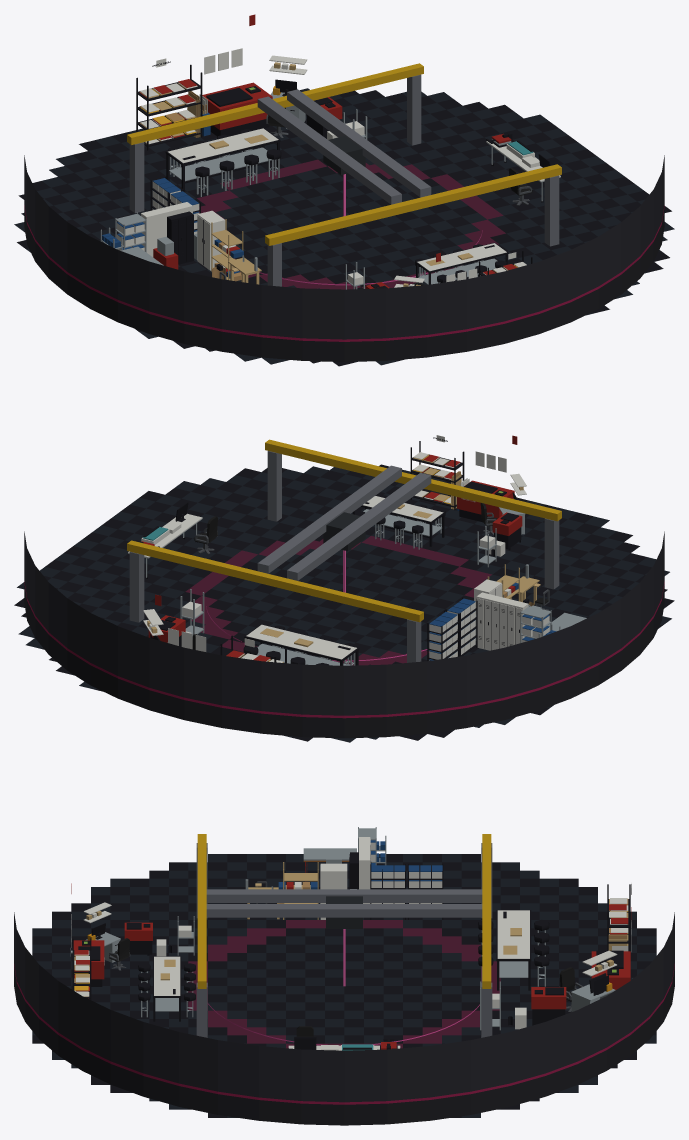
The model's file is arena_laser.glb.
3 renders of one model, top to bottom at view 1: azimuth 30°, elevation 25°; view 2: azimuth 150°, elevation 25°; view 3: azimuth 270°, elevation 25°, orthographic. The views are drawn at different scales.
Visible parts, largest first — view 1: laser_floor, laser_b, laser_a, laser_c; view 2: laser_floor, laser_b, laser_a, laser_c; view 3: laser_floor, laser_b, laser_a, laser_c.
Boxes of the visible parts, x1=… form: laser_floor: x1=14, y1=88, x2=674, y2=366; laser_b: x1=24, y1=136, x2=664, y2=361; laser_a: x1=127, y1=14, x2=561, y2=286; laser_c: x1=100, y1=132, x2=560, y2=284; laser_floor: x1=14, y1=464, x2=674, y2=742; laser_b: x1=24, y1=435, x2=664, y2=738; laser_a: x1=127, y1=439, x2=561, y2=665; laser_c: x1=128, y1=502, x2=586, y2=660; laser_floor: x1=32, y1=854, x2=656, y2=1117; laser_b: x1=14, y1=883, x2=674, y2=1125; laser_a: x1=196, y1=834, x2=631, y2=1037; laser_c: x1=245, y1=827, x2=443, y2=1050.
Size of the model in its own units: 72 by 12.18 by 72.
